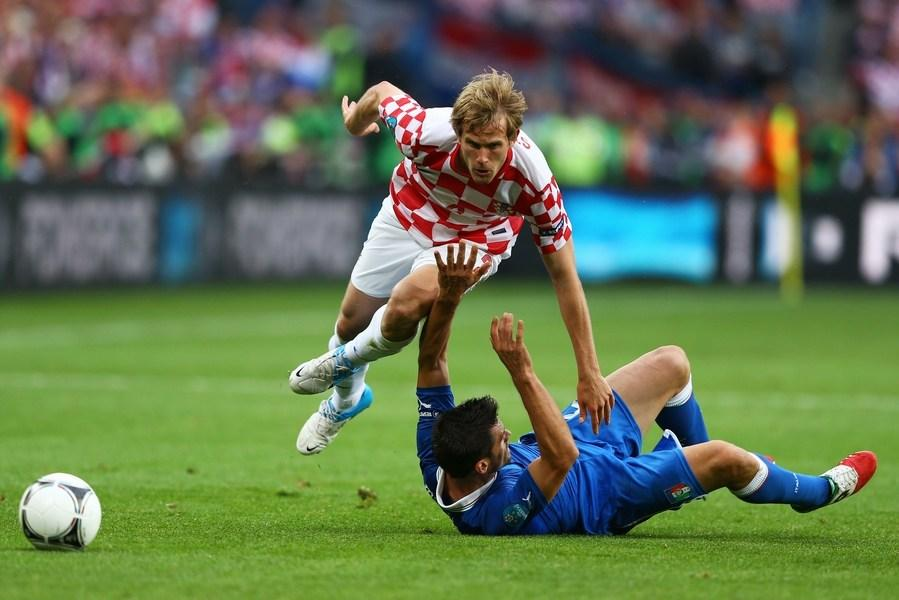bending: (280, 66, 581, 452)
down: (404, 240, 878, 548)
